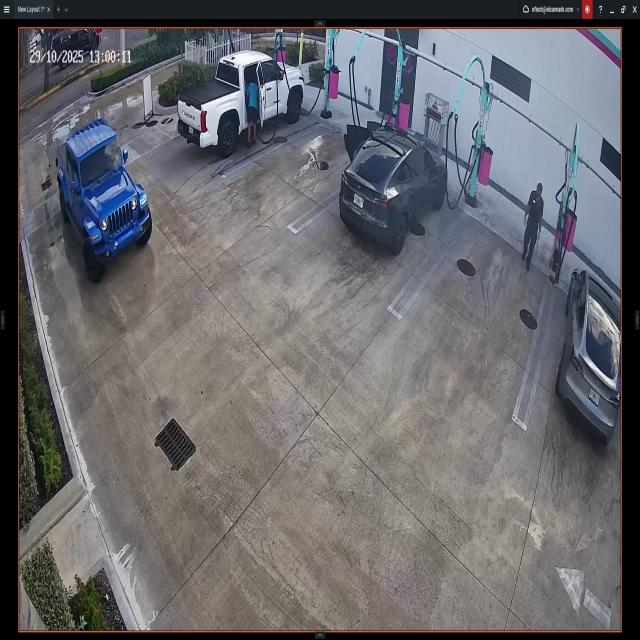Car: (49, 119, 152, 282), (343, 116, 445, 256), (177, 48, 305, 157), (558, 270, 621, 445)
